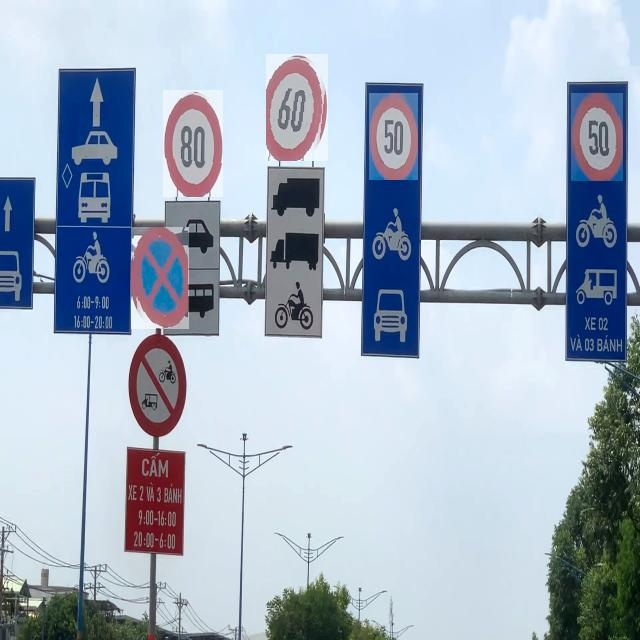bien_hieu_lenh: (266, 54, 328, 161), (163, 90, 223, 197), (132, 227, 190, 329), (571, 93, 623, 181), (369, 93, 418, 180)
